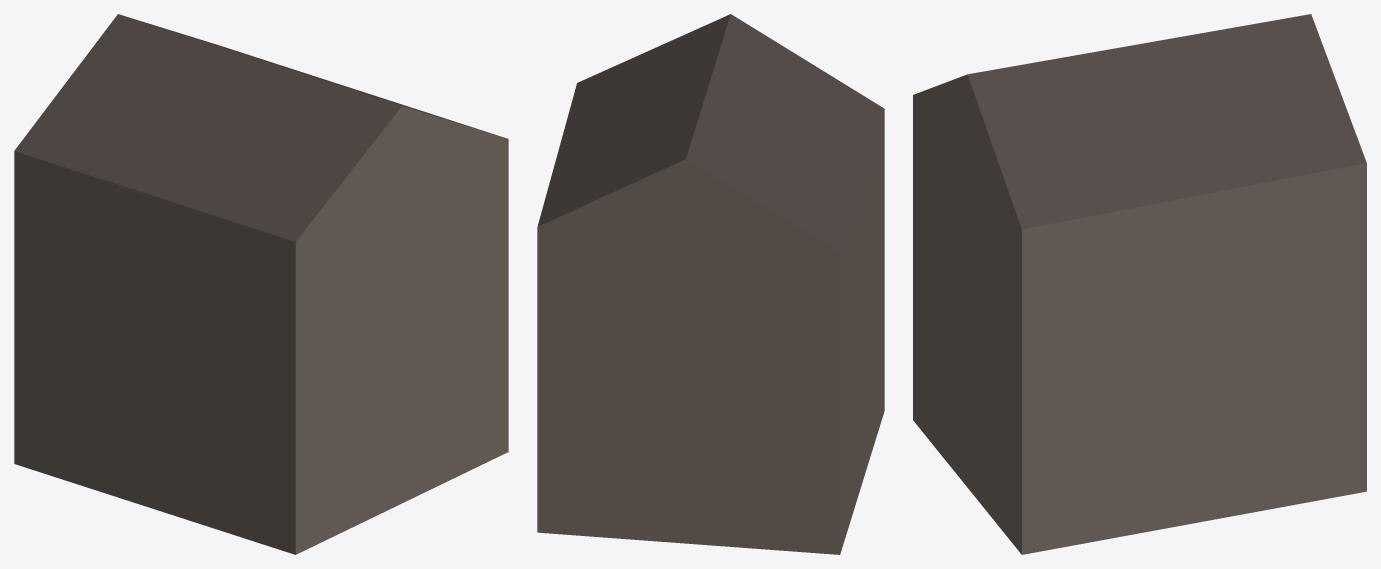
3 renders of one model, left to right at view 1: azimuth 30°, elevation 25°; view 2: azimuth 150°, elevation 25°; view 3: azimuth 270°, elevation 25°, orthographic. The views are drawn at different scales.
Visible parts, largest first — view 1: HP-w783664818; view 2: HP-w783664818; view 3: HP-w783664818.
Part boxes in pixels (box(x1,y1,x2,y2)): HP-w783664818: box(14, 14, 508, 554); HP-w783664818: box(537, 14, 884, 554); HP-w783664818: box(913, 14, 1366, 554).
Bounding box in the file's own units: 7.69 × 7.62 × 7.58.
